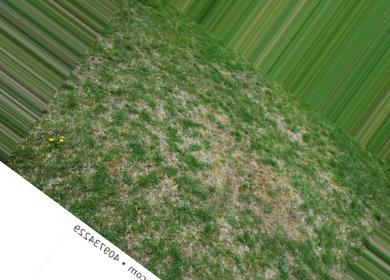patch: (215, 165, 299, 229), (175, 116, 199, 163)
